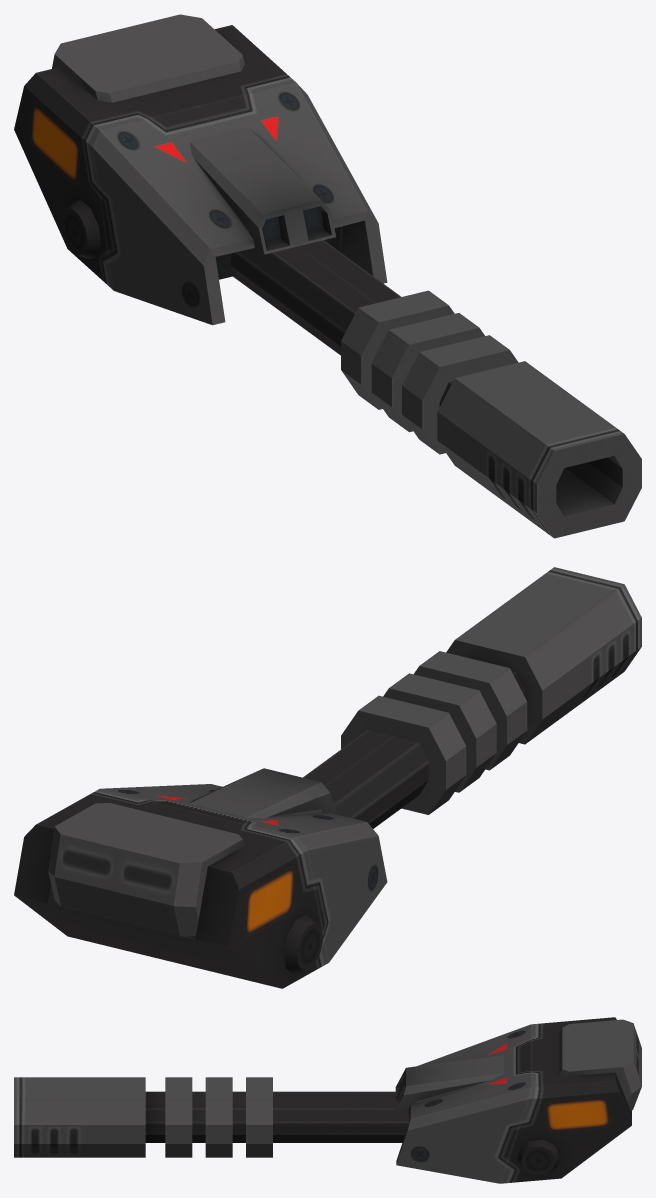
The model's file is ARC_Fixed_Rail_Mount_And_Barrel_1.fbx.
3 views of the same model, one above another, from view 1: azimuth 30°, elevation 25°; view 2: azimuth 150°, elevation 25°; view 3: azimuth 270°, elevation 25° (orthographic). The views are drawn at different scales.
Parts seen in each view (by area): view 1: FixedMountHousing, FixedMountBarrel; view 2: FixedMountHousing, FixedMountBarrel; view 3: FixedMountHousing, FixedMountBarrel.
Boxes of the visible parts, x1,y1,x2,y2 form: FixedMountHousing: [14, 14, 387, 325]; FixedMountBarrel: [230, 240, 641, 538]; FixedMountHousing: [14, 768, 387, 988]; FixedMountBarrel: [183, 567, 641, 939]; FixedMountHousing: [395, 1017, 641, 1183]; FixedMountBarrel: [14, 1077, 409, 1157].
Size of the model in its own units: 6.96 by 4.57 by 24.35.
